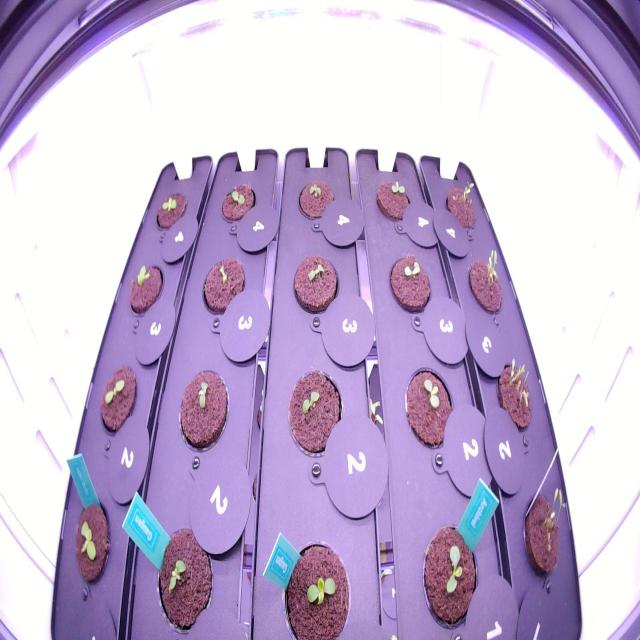germination: (271, 535, 355, 637), (416, 514, 484, 634), (149, 520, 218, 635), (518, 470, 574, 597), (281, 362, 349, 463), (398, 356, 461, 458), (171, 364, 233, 461), (64, 489, 118, 595), (284, 246, 342, 323), (91, 358, 142, 440), (492, 349, 536, 442), (196, 248, 249, 325), (384, 247, 435, 324), (463, 238, 506, 322), (122, 255, 168, 324), (290, 175, 342, 230), (442, 174, 482, 240), (371, 173, 416, 231), (214, 174, 258, 232), (148, 183, 190, 239)
